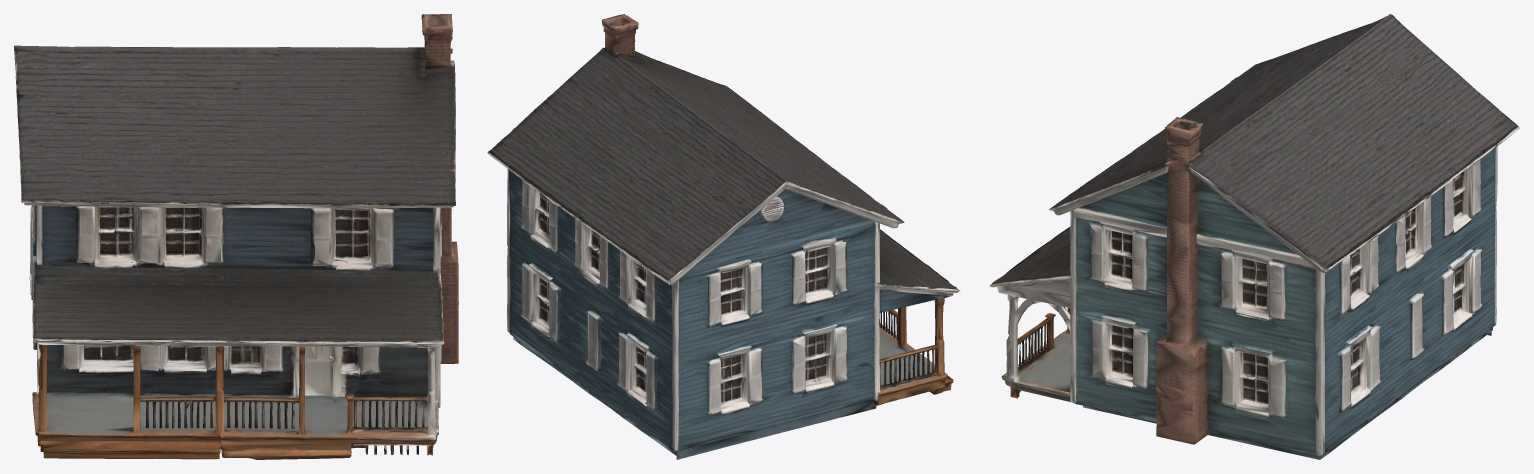
The model's file is tripo-house-blue.glb.
3 renders of one model, left to right at view 1: azimuth 30°, elevation 25°; view 2: azimuth 150°, elevation 25°; view 3: azimuth 270°, elevation 25°, orthographic. The views are drawn at different scales.
Visible parts, largest first — view 1: tripo_node_e76bcd42-b412-4b70-aa88-03fda27f2983; view 2: tripo_node_e76bcd42-b412-4b70-aa88-03fda27f2983; view 3: tripo_node_e76bcd42-b412-4b70-aa88-03fda27f2983.
Boxes of the visible parts, <box> form: tripo_node_e76bcd42-b412-4b70-aa88-03fda27f2983: <box>14,14,458,459</box>; tripo_node_e76bcd42-b412-4b70-aa88-03fda27f2983: <box>487,14,960,459</box>; tripo_node_e76bcd42-b412-4b70-aa88-03fda27f2983: <box>989,14,1519,459</box>.
Bounding box in the file's own units: 0.9544 × 0.6452 × 0.9806.
Materials: 1 (1 with a texture image).
